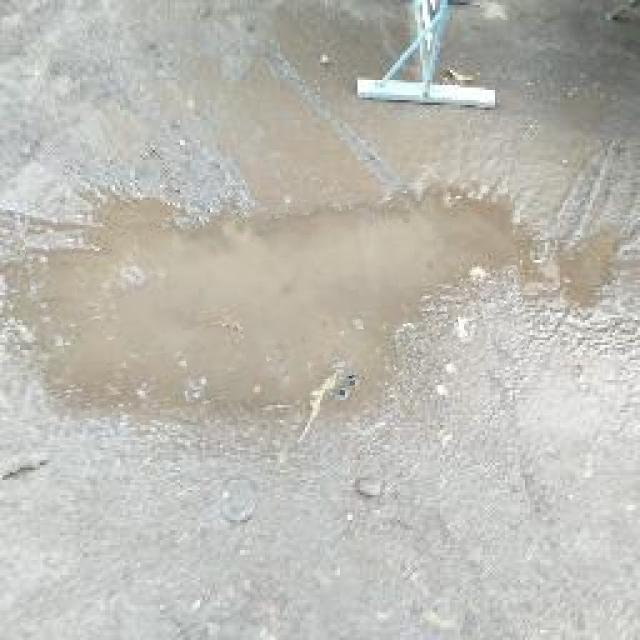puddle: (30, 192, 527, 411)
